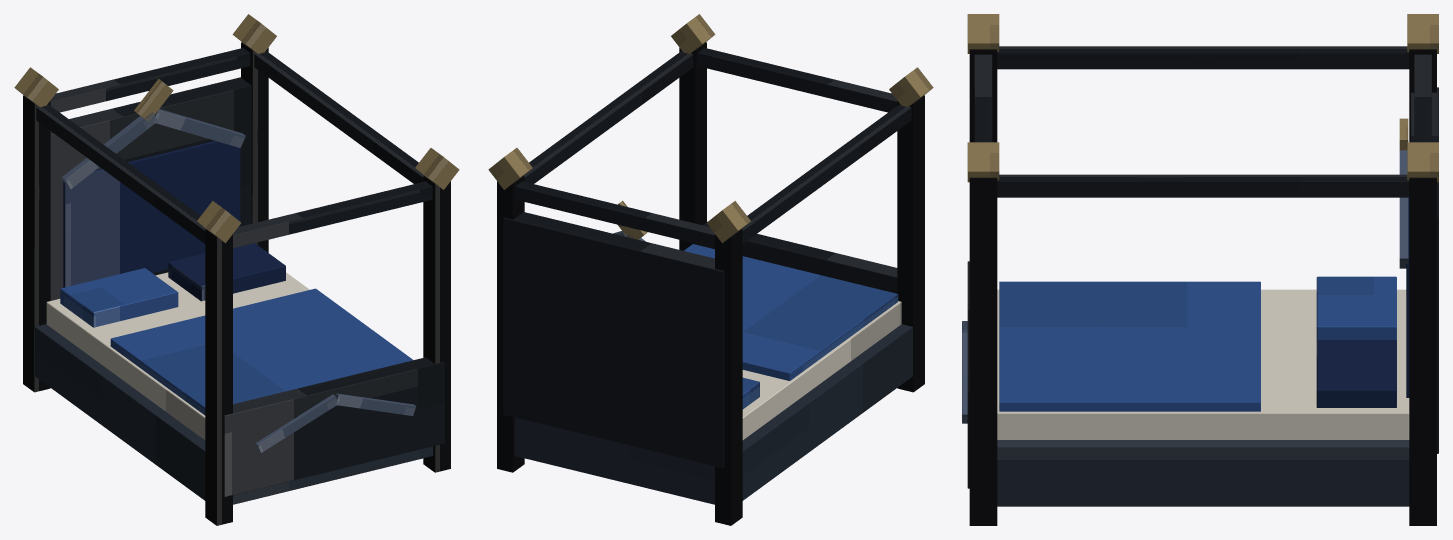
The model's file is gothic_double_bed_midnight.glb.
The picture shows the model from 3 angles, left to right: view 1: azimuth 30°, elevation 25°; view 2: azimuth 150°, elevation 25°; view 3: azimuth 270°, elevation 25°; orthographic projection. The views are drawn at different scales.
Parts seen in each view (by area): view 1: GothicFootboard, GothicBlanket, HeadboardVelvet, GothicBedFrame, TallHeadboard, GothicMattress, FootPostL, HeadPostL, FootPostR, GothicPillow_1, CanopySideL, CanopySideR (+13 smaller); view 2: TallHeadboard, GothicBedFrame, GothicBlanket, FootPostL, HeadPostL, GothicMattress, FootPostR, CanopySideL, CanopySideR, CanopyHeadRail, GothicFootboard, CanopyFootRail (+5 smaller); view 3: GothicBlanket, GothicBedFrame, GothicMattress, FootPostR, CanopySideL, CanopySideR, HeadPostR, GothicPillow_2, GothicPillow_1, CanopyFootRail, CanopyHeadRail, FootPostL (+10 smaller).
Part boxes in pixels (left/top/right/bottom): GothicFootboard: left=223, top=357, right=444, bottom=496; GothicBlanket: left=110, top=288, right=413, bottom=415; HeadboardVelvet: left=63, top=141, right=240, bottom=287; GothicBedFrame: left=35, top=324, right=433, bottom=504; TallHeadboard: left=50, top=77, right=251, bottom=300; GothicMattress: left=46, top=272, right=309, bottom=439; FootPostL: left=205, top=229, right=232, bottom=525; HeadPostL: left=23, top=95, right=50, bottom=392; FootPostR: left=423, top=175, right=450, bottom=472; GothicPillow_1: left=60, top=268, right=178, bottom=327; CanopySideL: left=36, top=104, right=205, bottom=243; CanopySideR: left=254, top=51, right=423, bottom=183; TallHeadboard: left=503, top=212, right=724, bottom=468; GothicBedFrame: left=514, top=324, right=912, bottom=504; GothicBlanket: left=684, top=244, right=898, bottom=380; FootPostL: left=897, top=95, right=924, bottom=392; HeadPostL: left=715, top=229, right=742, bottom=525; GothicMattress: left=742, top=301, right=901, bottom=439; FootPostR: left=679, top=42, right=706, bottom=250; CanopySideL: left=742, top=104, right=911, bottom=243; CanopySideR: left=524, top=51, right=693, bottom=183; CanopyHeadRail: left=515, top=181, right=714, bottom=248; GothicFootboard: left=697, top=221, right=897, bottom=293; CanopyFootRail: left=697, top=48, right=897, bottom=112; GothicBlanket: left=999, top=281, right=1260, bottom=411; GothicBedFrame: left=997, top=440, right=1409, bottom=506; GothicMattress: left=997, top=289, right=1409, bottom=439; FootPostR: left=969, top=177, right=997, bottom=525; CanopySideL: left=997, top=46, right=1409, bottom=69; CanopySideR: left=997, top=174, right=1409, bottom=197; HeadPostR: left=1409, top=177, right=1436, bottom=525; GothicPillow_2: left=1316, top=340, right=1396, bottom=407; GothicPillow_1: left=1316, top=276, right=1396, bottom=340; CanopyFootRail: left=974, top=54, right=992, bottom=142; CanopyHeadRail: left=1414, top=54, right=1431, bottom=142; FootPostL: left=969, top=49, right=997, bottom=142.
Size of the model in its own units: 1.99 by 2.4 by 2.73.
Materials: 1 (1 with a texture image).
